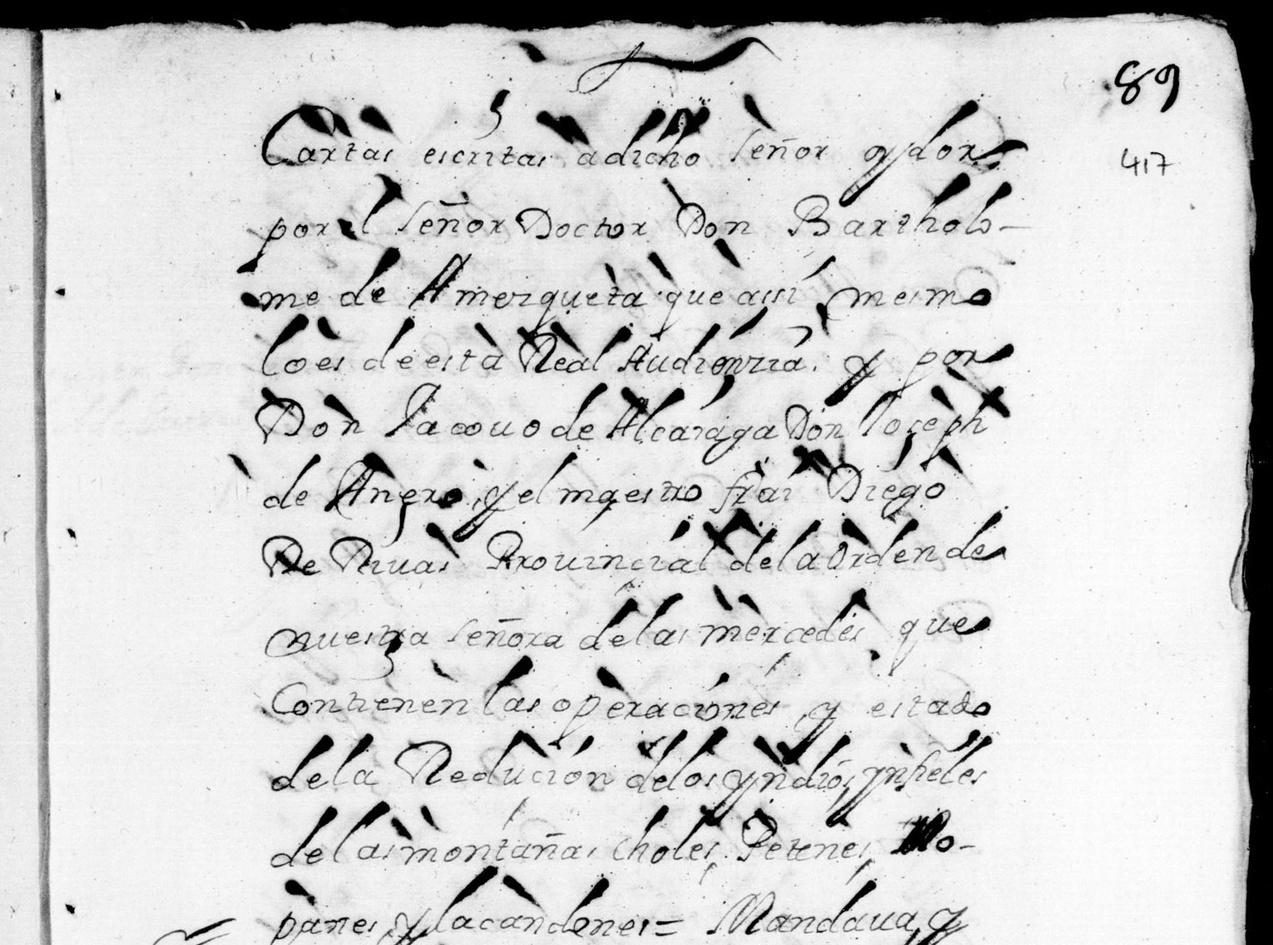lacandon: (435, 865, 649, 938)
